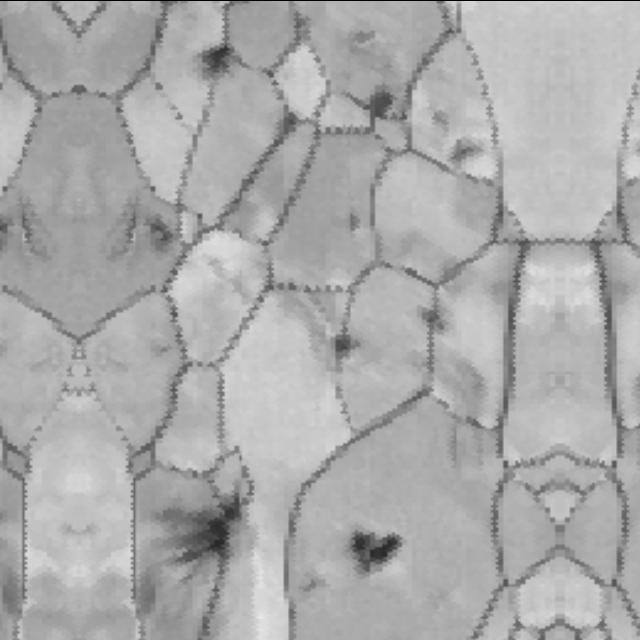good_void: (156, 488, 259, 588), (108, 191, 180, 258), (0, 191, 50, 258), (347, 524, 405, 575), (205, 35, 240, 83), (328, 328, 366, 370), (341, 24, 384, 61), (336, 202, 369, 245), (369, 75, 396, 124), (449, 134, 485, 170), (419, 303, 456, 336), (147, 338, 179, 369), (296, 569, 330, 597), (431, 110, 454, 140), (0, 342, 11, 365)
